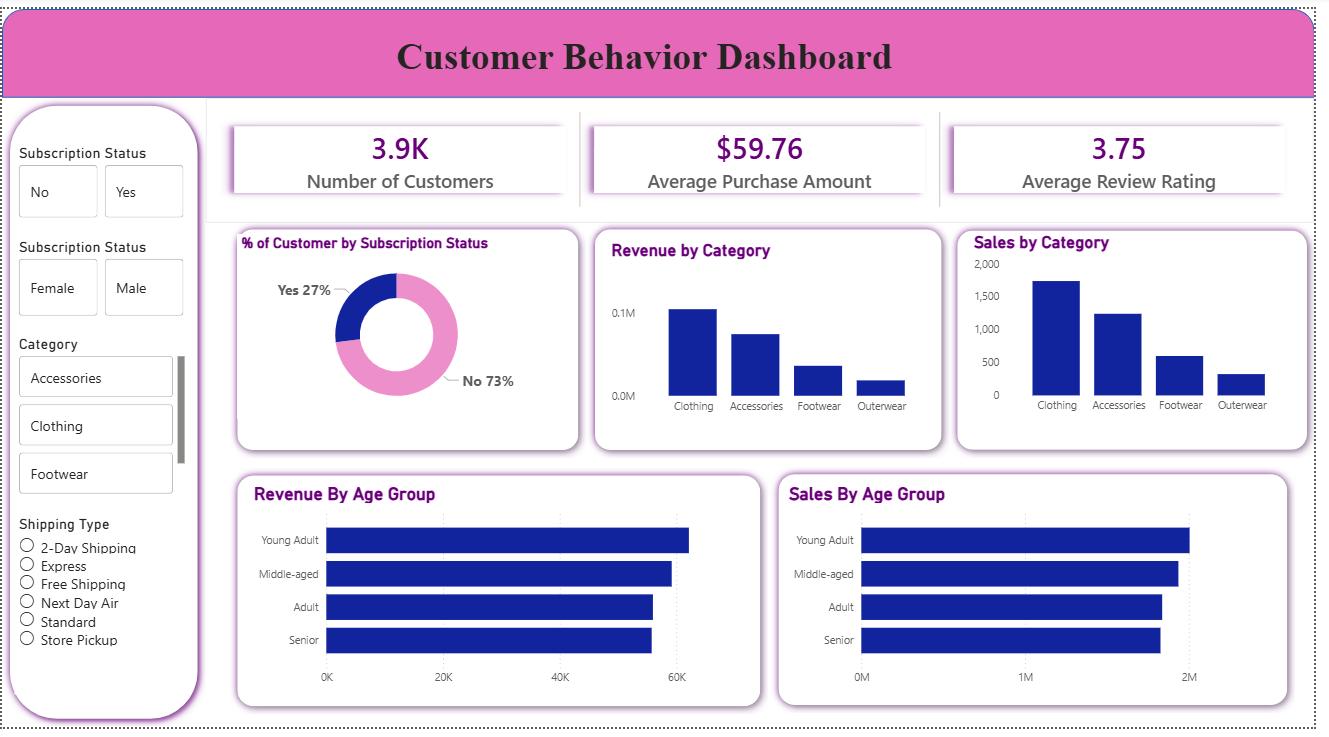

The dashboard page shown, as its layout file describes it:
{"tool":"powerbi","page":{"name":"Page 1","canvas":[1500,820],"ordinal":0},"visuals":[{"type":"shape","box":[260.3,523.9,615.6,281.6],"z":0},{"type":"shape","box":[1082.2,243.9,417.5,268.5],"z":1000},{"type":"cardVisual","fields":{"Data":["public customer.Number of Customers","public customer.Average Purchase Amount","public customer.Average Review Rating"]},"box":[232.5,101.5,1267.2,142.4],"z":2000},{"type":"shape","box":[668,242.3,414.2,270.1],"z":3000},{"type":"shape","box":[0,0,1500,101.3],"z":4000},{"type":"textbox","box":[77.4,23.9,1314.3,60.5],"z":5000},{"type":"shape","box":[260.3,242.3,407.7,270.1],"z":6000},{"type":"donutChart","title":"% of Customer by Subscription Status","fields":{"Category":["public customer.subscription_status"],"Y":["CountNonNull(public customer.customer_id)"]},"box":[268.5,257,365.1,211.2],"z":7000},{"type":"clusteredColumnChart","title":"Revenue by Category","fields":{"Y":["Sum(public customer.purchase_amount)"],"Category":["public customer.category"]},"box":[690.9,263.6,376.6,207.9],"z":8000},{"type":"clusteredColumnChart","title":"Sales by Category","fields":{"Y":["CountNonNull(public customer.customer_id)"],"Category":["public customer.category"]},"box":[1105.1,255.4,373.3,216.1],"z":9000},{"type":"shape","box":[0,101.5,232.5,718.7],"z":10000},{"type":"advancedSlicerVisual","title":"Subscription Status","fields":{"Values":["public customer.subscription_status"]},"box":[14.7,153.9,199.7,90],"z":11000},{"type":"advancedSlicerVisual","title":"Subscription Status","fields":{"Values":["public customer.gender"]},"box":[14.7,262,199.7,95],"z":12000},{"type":"advancedSlicerVisual","title":"Category","fields":{"Values":["public customer.category"]},"box":[14.7,373.3,199.7,188.3],"z":13000},{"type":"listSlicer","fields":{"Values":["public customer.shipping_type"]},"box":[14.7,577.9,199.7,204.7],"z":14000},{"type":"clusteredBarChart","title":"Revenue By Age Group","fields":{"Y":["Sum(public customer.purchase_amount)"],"Category":["public customer.age_group"]},"box":[283.2,541.9,569.8,240.7],"z":15000},{"type":"shape","box":[879.2,522.3,599.2,281.6],"z":15001},{"type":"clusteredBarChart","title":"Sales By Age Group","fields":{"Y":["Sum(public customer.customer_id)"],"Category":["public customer.age_group"]},"box":[893.9,541.9,569.8,240.7],"z":15002}]}

Visuals, with their boxes in screenshot pixels (x1, y1, x2, y2), scaled from the page's 1500x820 canvas onto the 1329x737 screenshot:
shape: crop(231, 471, 776, 724)
shape: crop(959, 219, 1328, 461)
cardVisual - public customer.Number of Customers x public customer.Average Purchase Amount: crop(206, 91, 1328, 219)
shape: crop(592, 218, 959, 461)
shape: crop(0, 0, 1328, 91)
textbox: crop(69, 21, 1233, 76)
shape: crop(231, 218, 592, 461)
"% of Customer by Subscription Status" donutChart: crop(238, 231, 561, 421)
"Revenue by Category" clusteredColumnChart: crop(612, 237, 946, 424)
"Sales by Category" clusteredColumnChart: crop(979, 230, 1310, 424)
shape: crop(0, 91, 206, 736)
"Subscription Status" advancedSlicerVisual: crop(13, 138, 190, 219)
"Subscription Status" advancedSlicerVisual: crop(13, 235, 190, 321)
"Category" advancedSlicerVisual: crop(13, 336, 190, 505)
listSlicer - public customer.shipping_type: crop(13, 519, 190, 703)
"Revenue By Age Group" clusteredBarChart: crop(251, 487, 756, 703)
shape: crop(779, 469, 1310, 723)
"Sales By Age Group" clusteredBarChart: crop(792, 487, 1297, 703)
